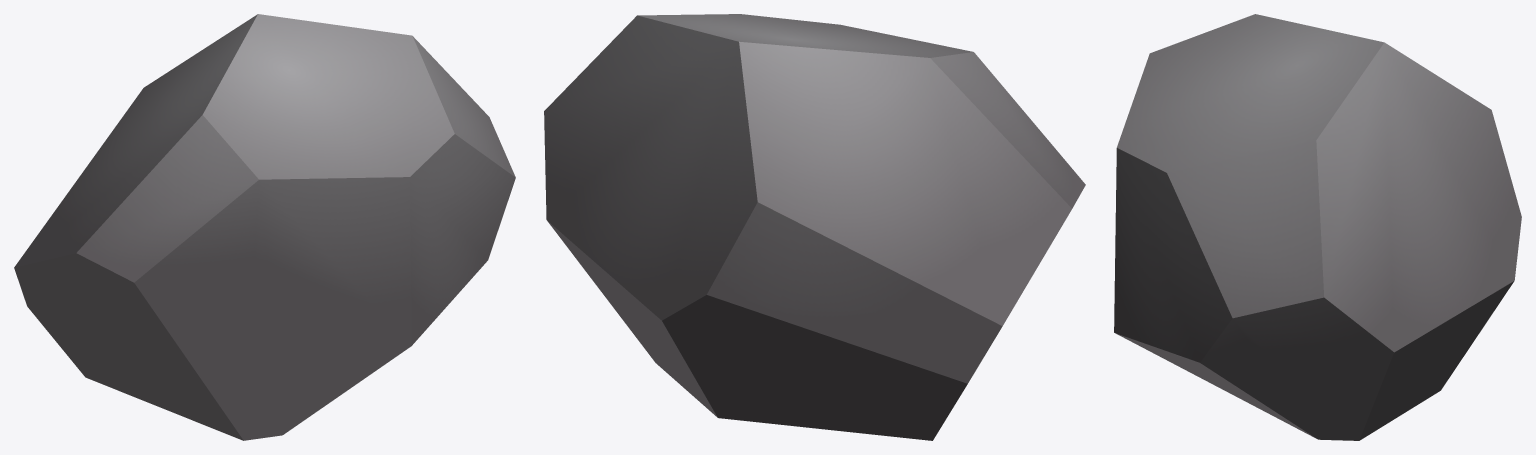
File: MidSize_Rock.fbx
3 renders of one model, left to right at view 1: azimuth 30°, elevation 25°; view 2: azimuth 150°, elevation 25°; view 3: azimuth 270°, elevation 25°, orthographic. The views are drawn at different scales.
Parts seen in each view (by area): view 1: MidSize_Rock; view 2: MidSize_Rock; view 3: MidSize_Rock.
Part boxes in pixels (left/top/right/bottom): MidSize_Rock: left=14, top=14, right=515, bottom=440; MidSize_Rock: left=544, top=14, right=1085, bottom=440; MidSize_Rock: left=1114, top=14, right=1521, bottom=440.
Size of the model in its own units: 2.96 by 2.03 by 2.13.
Materials: 1 (1 with a texture image).
